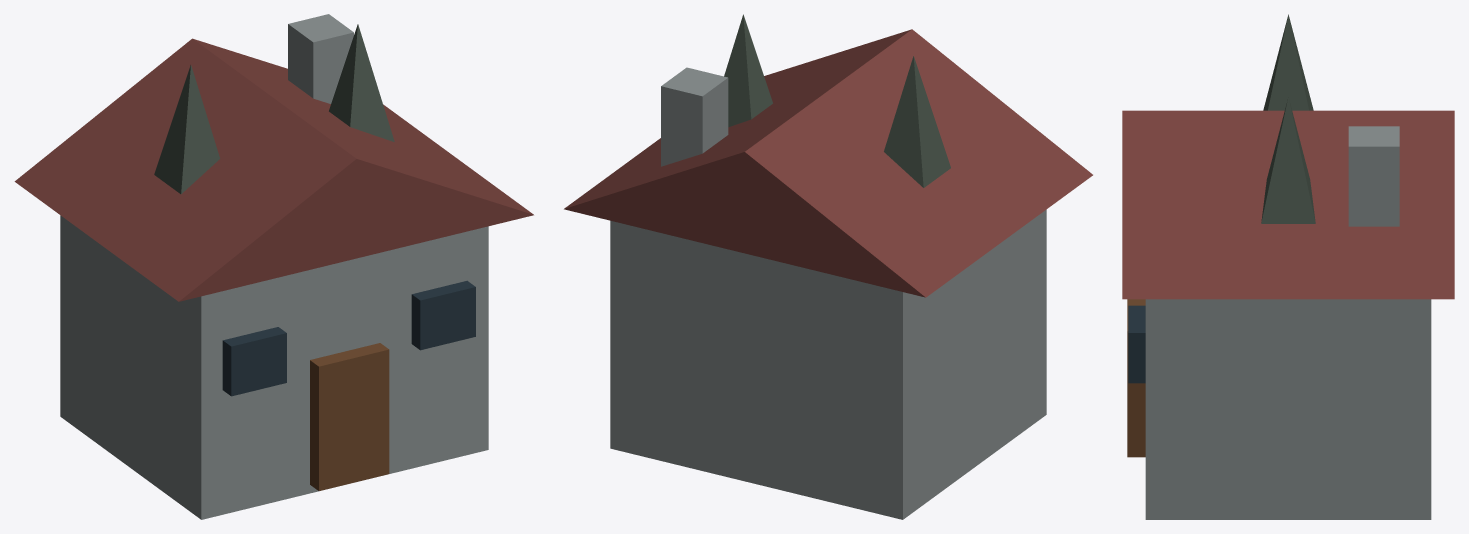
File: civilian.obj
The picture shows the model from 3 angles, left to right: view 1: azimuth 30°, elevation 25°; view 2: azimuth 150°, elevation 25°; view 3: azimuth 270°, elevation 25°; orthographic projection.
Visible parts, largest first — view 1: civilian; view 2: civilian; view 3: civilian.
Boxes of the visible parts, box(x1,y1,x2,y2) form: civilian: box(14, 14, 533, 519); civilian: box(564, 14, 1092, 519); civilian: box(1122, 14, 1454, 519).
Bounding box in the file's own units: 2.34 × 2.45 × 1.87.
